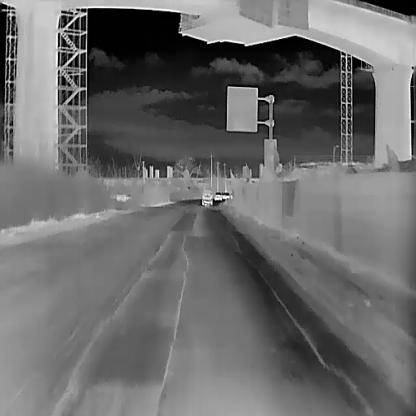car: (201, 190, 212, 205), (222, 191, 230, 199), (214, 192, 221, 200)
